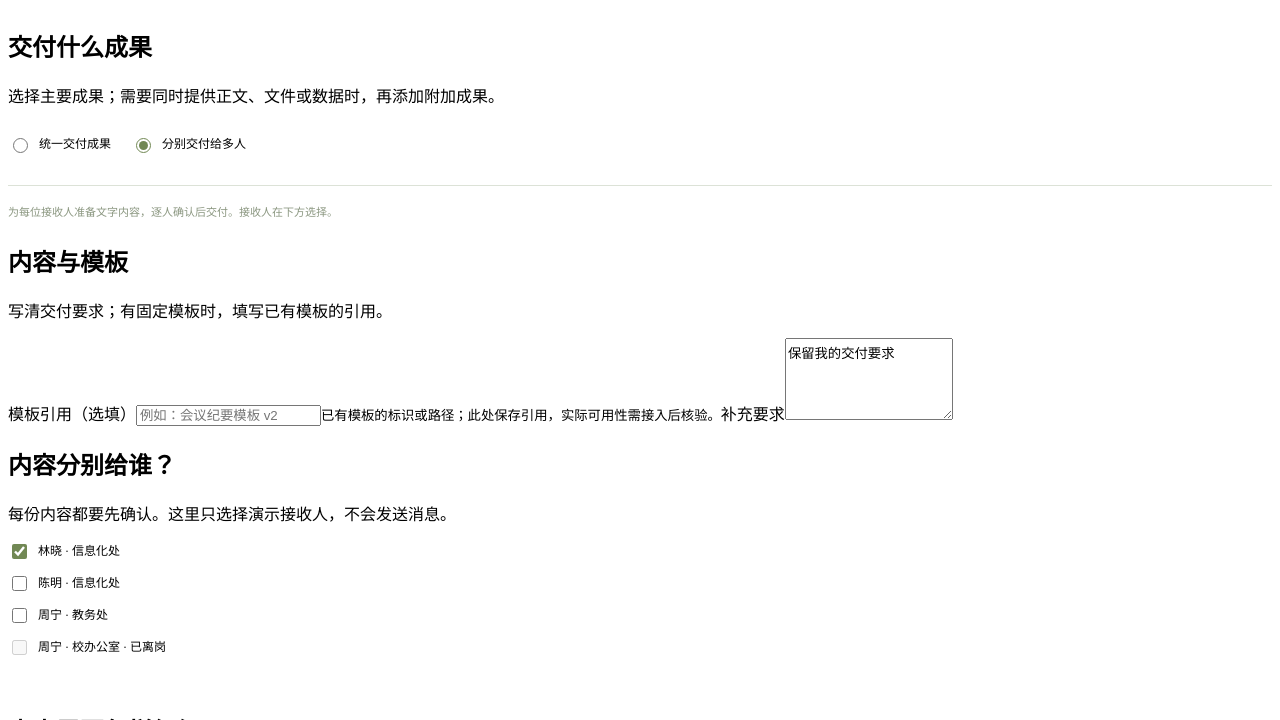
Scenario: separates per-person delivery from file formats while preserving existing recipients and content
The width and height of the screenshot is (1280, 720).
Check: the radio button labelled "分别交付给多人" is checked, box [136,138,151,153]
Click the radio button labelled "统一交付成果": (20,146) [13,138,28,153]
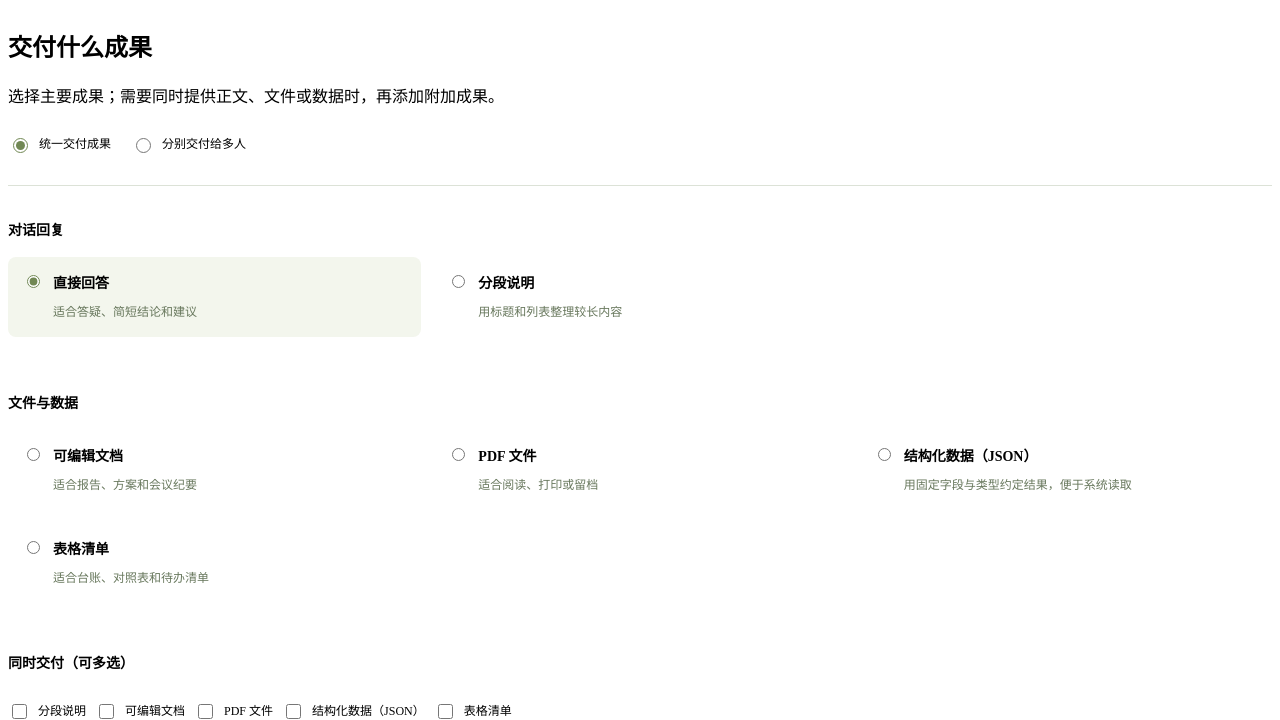
Click the radio button labelled "PDF 文件": (459,454) [452,448,465,461]
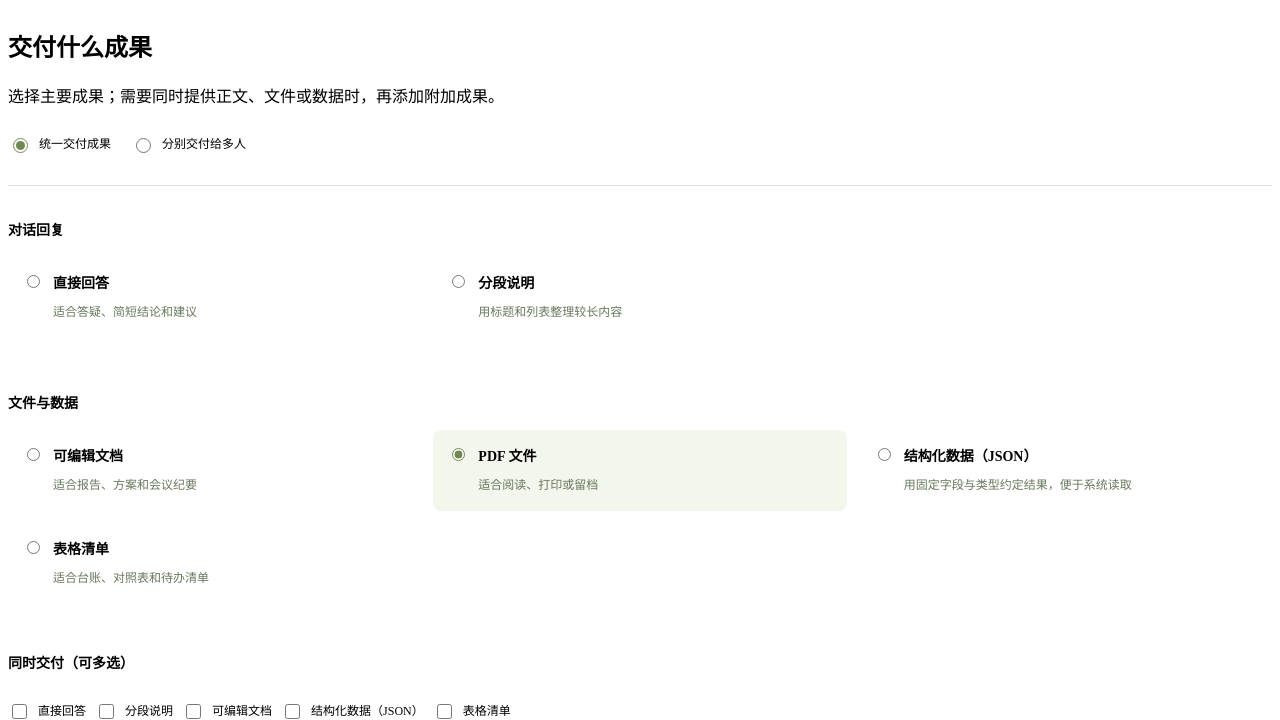
Click the radio button labelled "分别交付给多人": (144,146) [136,138,151,153]
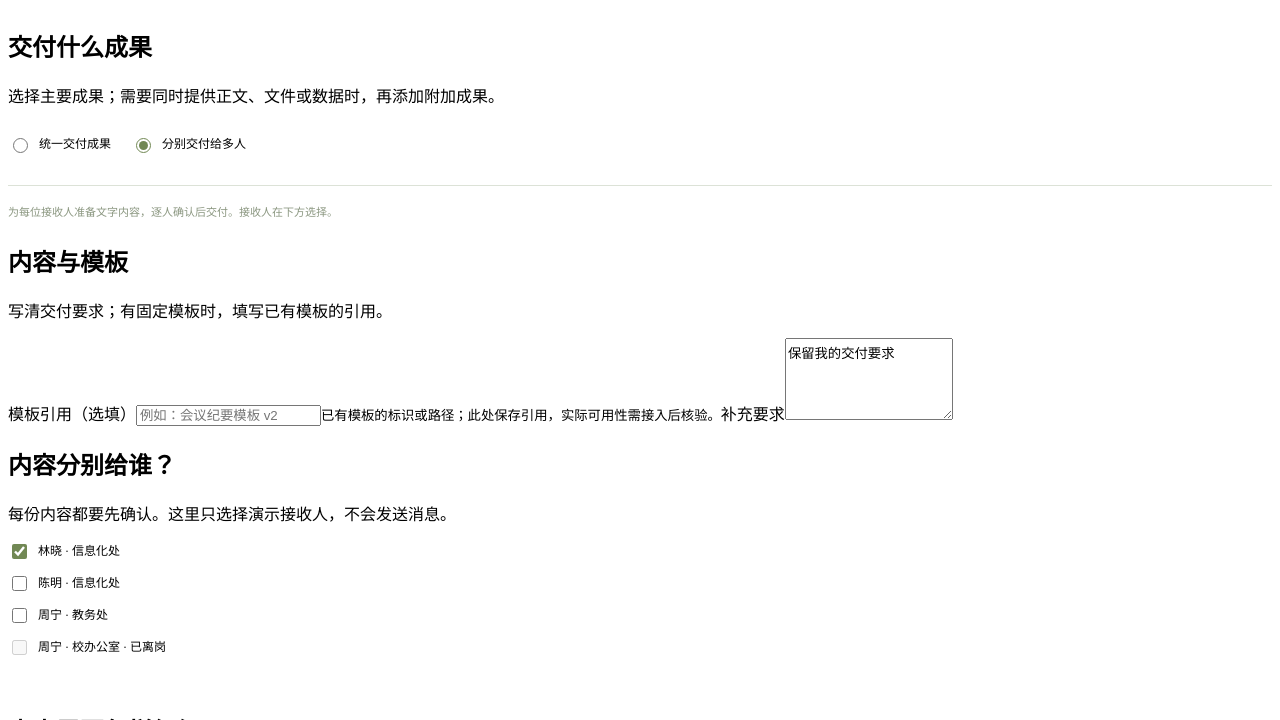
Click the radio button labelled "统一交付成果": (20,146) [13,138,28,153]
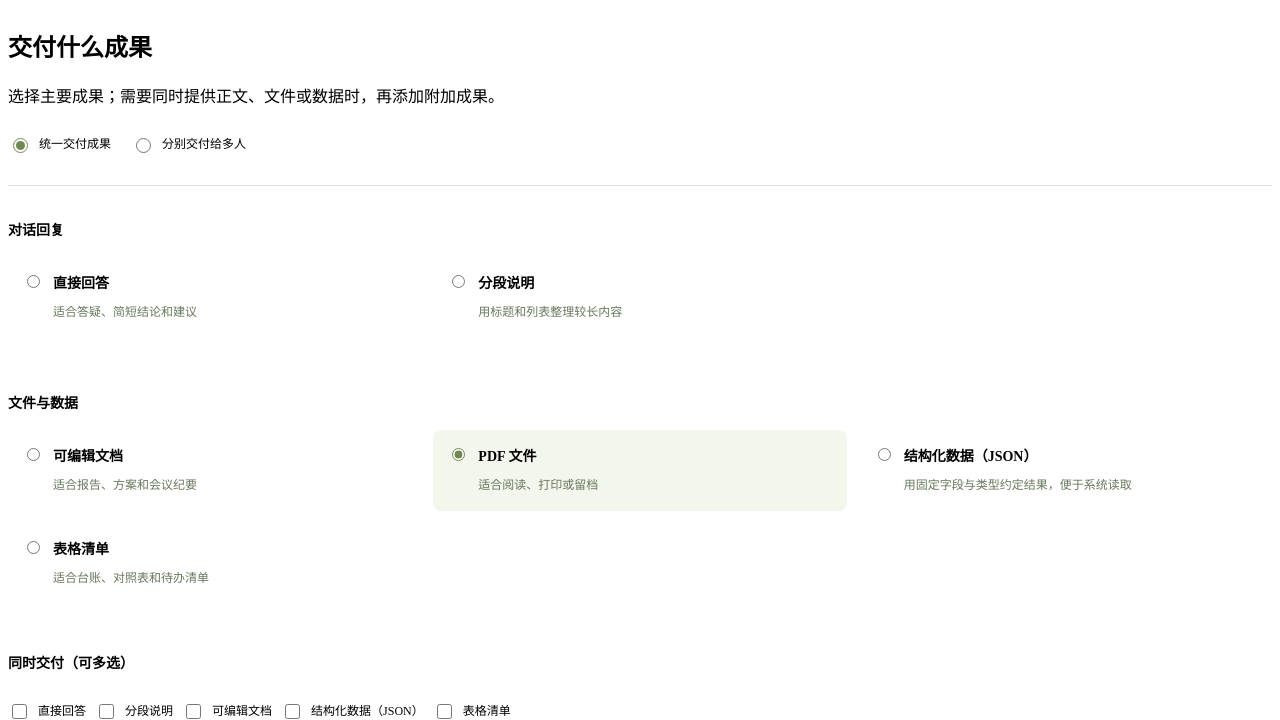
Check: the radio button labelled "PDF 文件" is checked, box [452,448,465,461]
